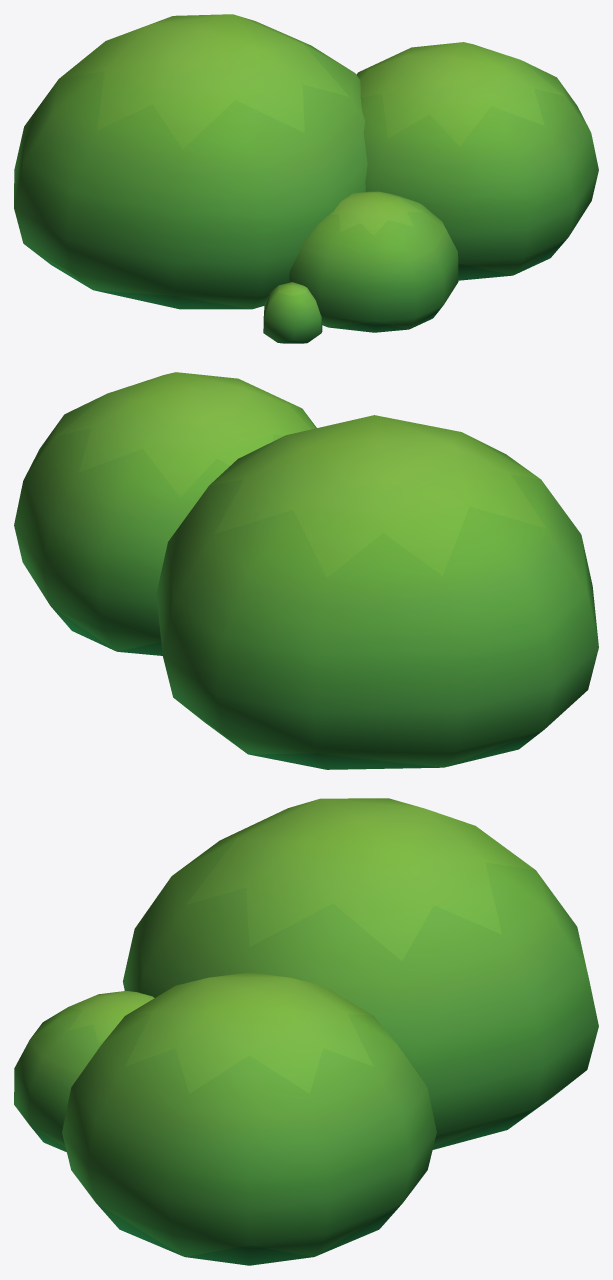
Rendered from forest_bush_1.glb.
3 views of the same model, one above another, from view 1: azimuth 30°, elevation 25°; view 2: azimuth 150°, elevation 25°; view 3: azimuth 270°, elevation 25° (orthographic). The views are drawn at different scales.
Parts seen in each view (by area): view 1: Bush_1_F_Color1; view 2: Bush_1_F_Color1; view 3: Bush_1_F_Color1.
Boxes of the visible parts, x1,y1,x2,y2 form: Bush_1_F_Color1: (14, 14, 598, 343); Bush_1_F_Color1: (14, 372, 598, 769); Bush_1_F_Color1: (14, 798, 598, 1265).
Bounding box in the file's own units: 2.28 × 0.9938 × 1.88.
Materials: 1 (1 with a texture image).
